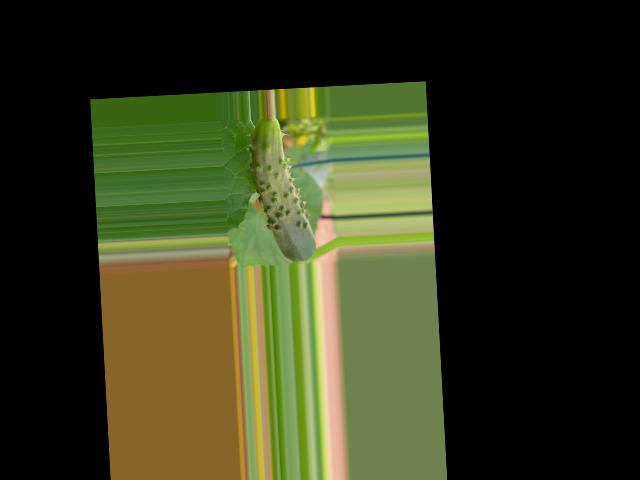cucumber: (247, 116, 316, 264)
